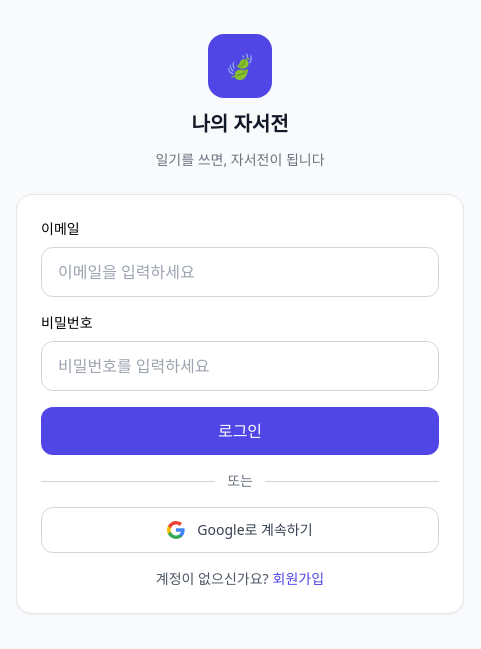
Scenario: LoginPage (DLD-400 리디자인) › 기존 로그인 로직 유지 › should display error message when login fails with 401
Type "bad@example.com" into the field with test id "email-input" at (240, 272), box [41, 247, 439, 297]
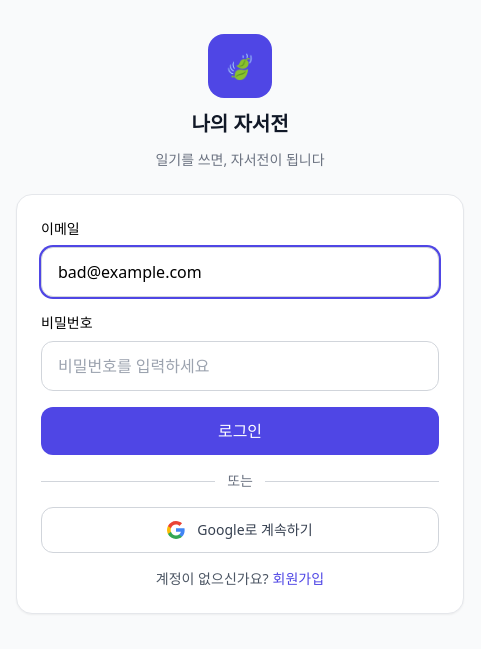
Type "badpassword" into the password field with test id "password-input" at (240, 366), box [41, 341, 439, 391]
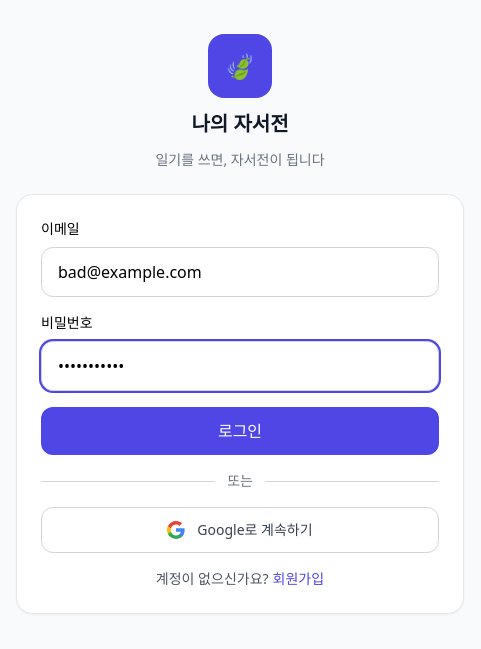
Click the button with test id "submit-button" at (240, 431), box [41, 407, 439, 455]
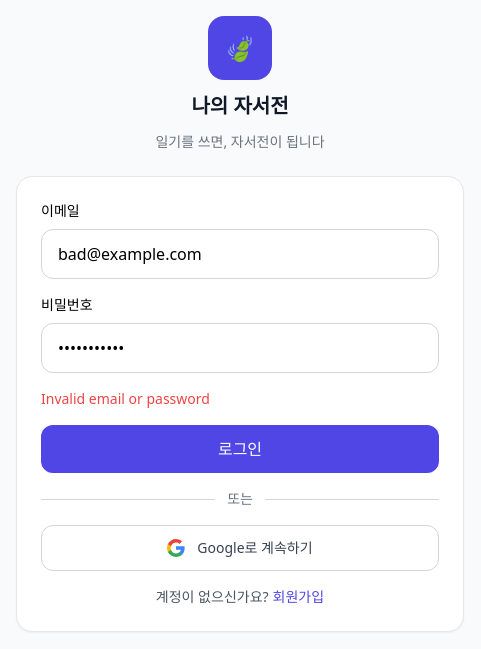
Expected: the message with test id "error-message" reads "Invalid email or password", [41, 389, 210, 408]
